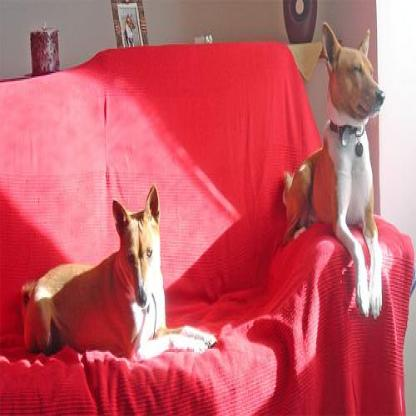basenji: (18, 184, 217, 362), (281, 18, 385, 317), (122, 9, 136, 46)
